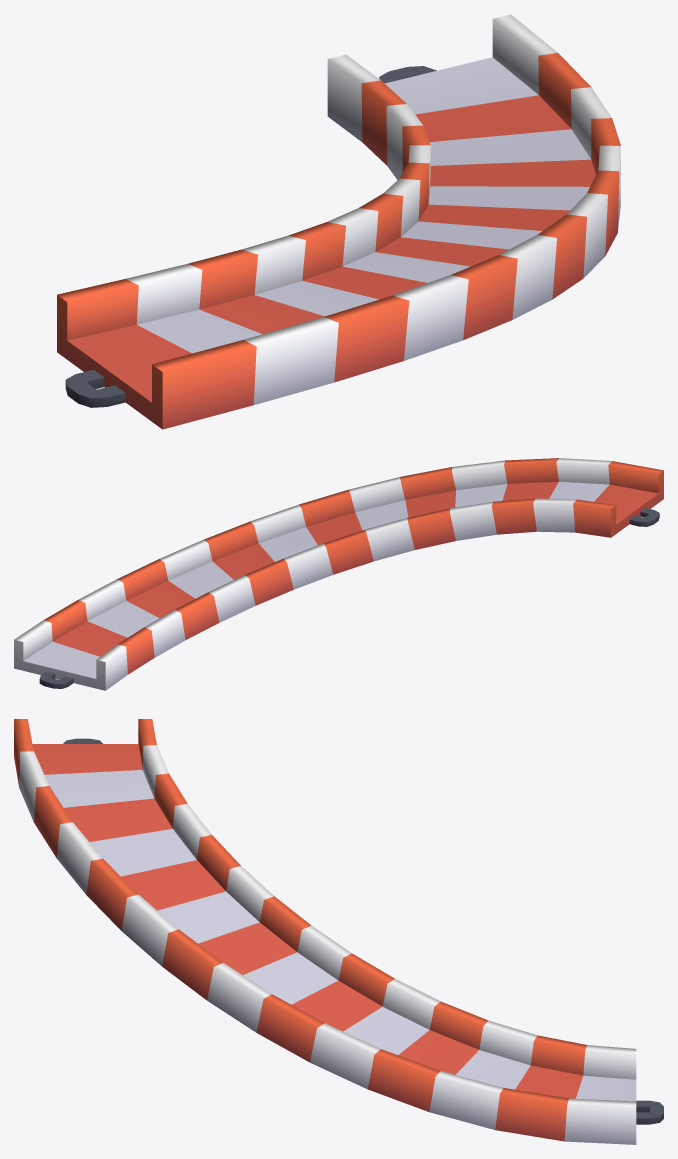
The model's file is kenney-toy-car-track-striped-narrow-corner-large-ramp.glb.
The picture shows the model from 3 angles, top to bottom: view 1: azimuth 30°, elevation 25°; view 2: azimuth 150°, elevation 25°; view 3: azimuth 270°, elevation 25°; orthographic projection. The views are drawn at different scales.
Parts seen in each view (by area): view 1: track-striped-narrow-corner-large-ramp; view 2: track-striped-narrow-corner-large-ramp; view 3: track-striped-narrow-corner-large-ramp.
Boxes of the visible parts, <box> form: track-striped-narrow-corner-large-ramp: <box>57,14,620,429</box>; track-striped-narrow-corner-large-ramp: <box>14,458,663,690</box>; track-striped-narrow-corner-large-ramp: <box>14,719,663,1144</box>.
Size of the model in its own units: 4.7 by 1.3 by 4.7.
Materials: 1 (1 with a texture image).
